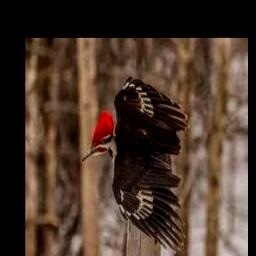Woodpecker: (82, 76, 189, 253)
